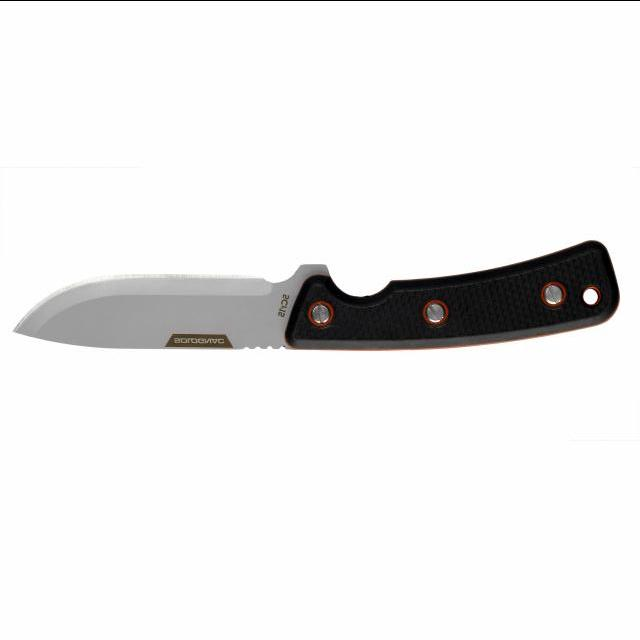knife: (8, 227, 626, 354)
